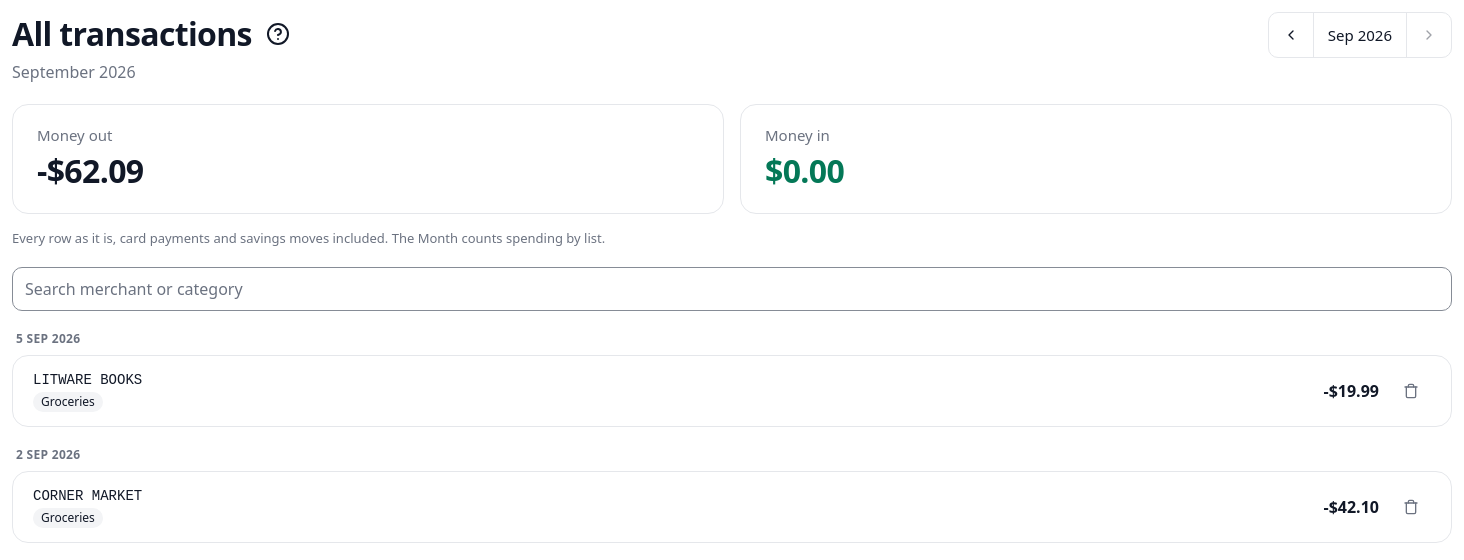
Scenario: LedgerScreen, removing a transaction › asks once more, then removes only that row
Expected: the text "CORNER MARKET" is shown, [33,488,142,504]
Step 1. Click the button named "Remove this transaction" in the row of "CORNER MARKET" → point(1411, 507), box [1391,487,1431,527]
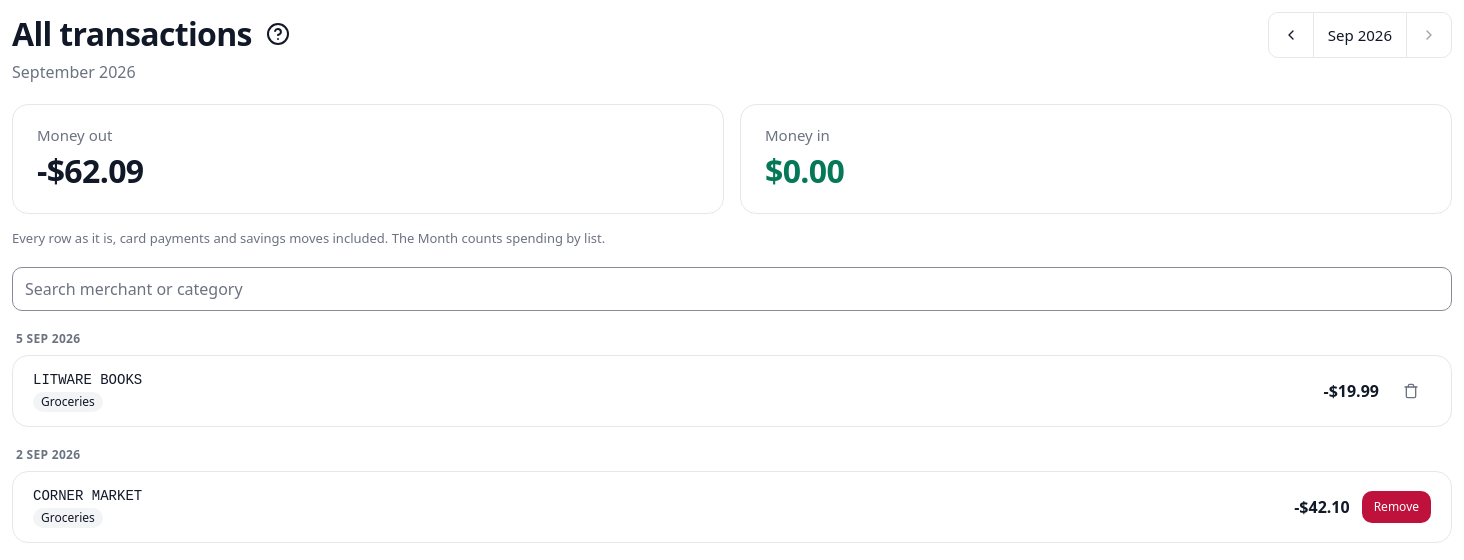
Step 2. Click the button "Remove" → point(1396, 507), box [1362,491,1431,523]
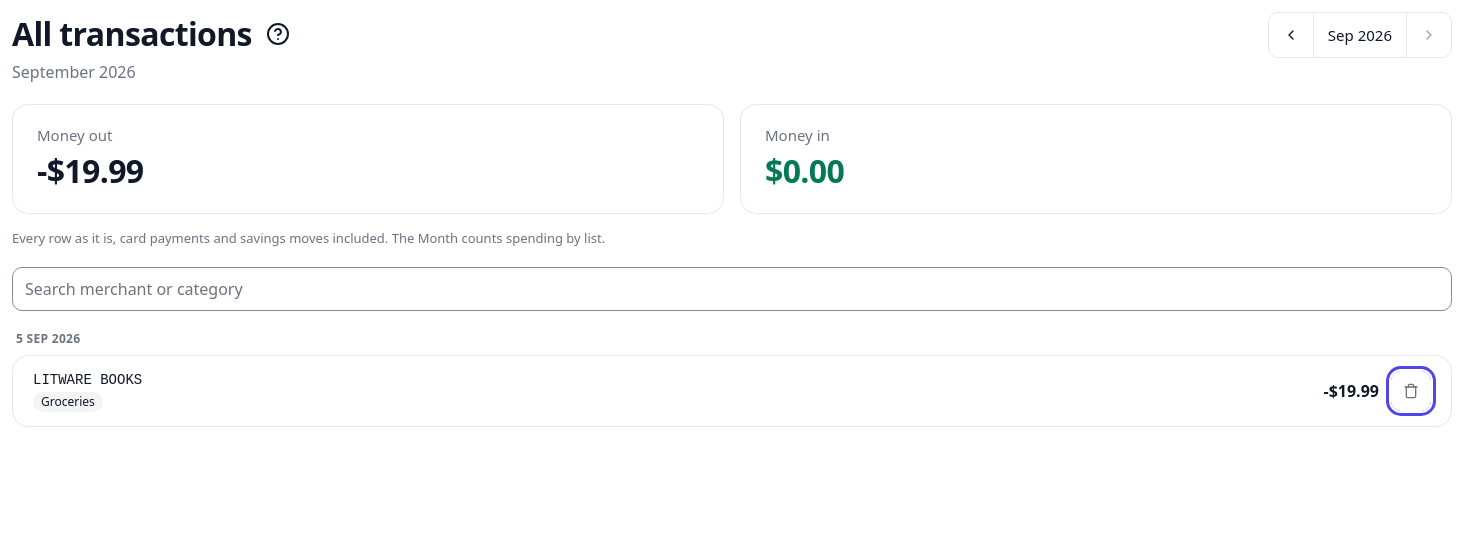
Expected: the text "LITWARE BOOKS" is shown, [33,372,142,388]
Expected: the text "CORNER MARKET" is gone
